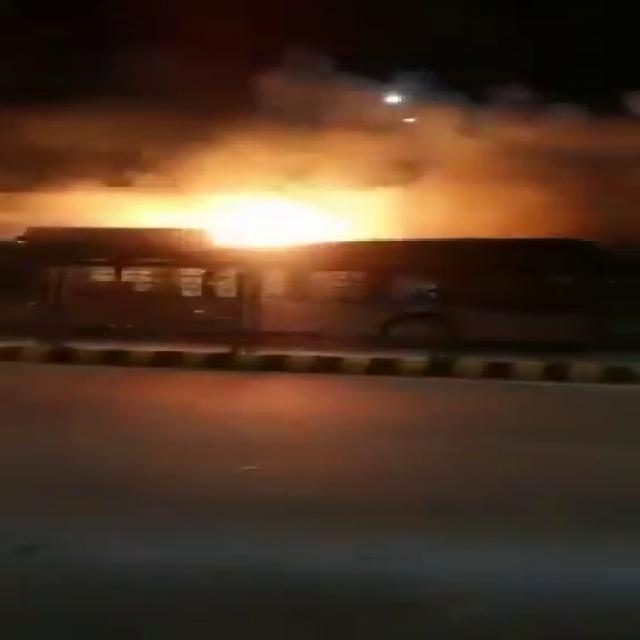Fire: (149, 190, 396, 250)
